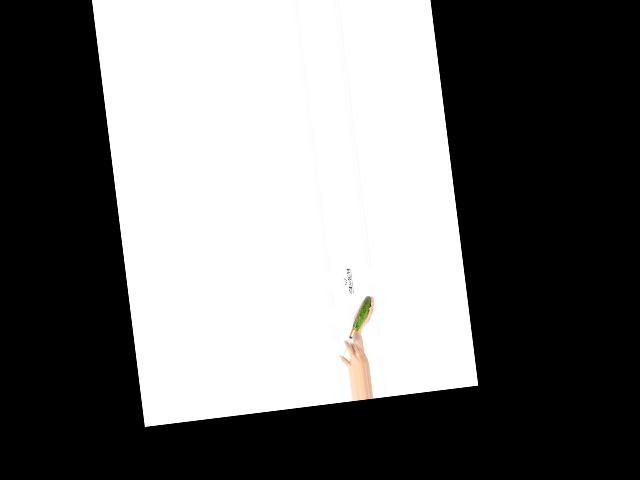cucumber: (349, 296, 374, 331)
